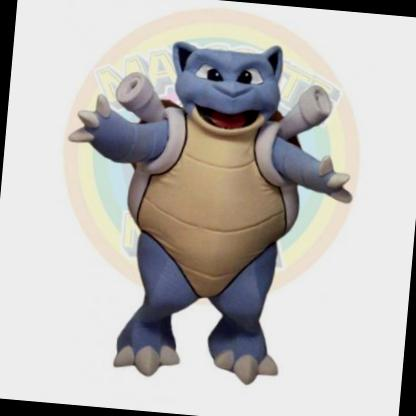Turtok: (0, 0, 408, 415)
